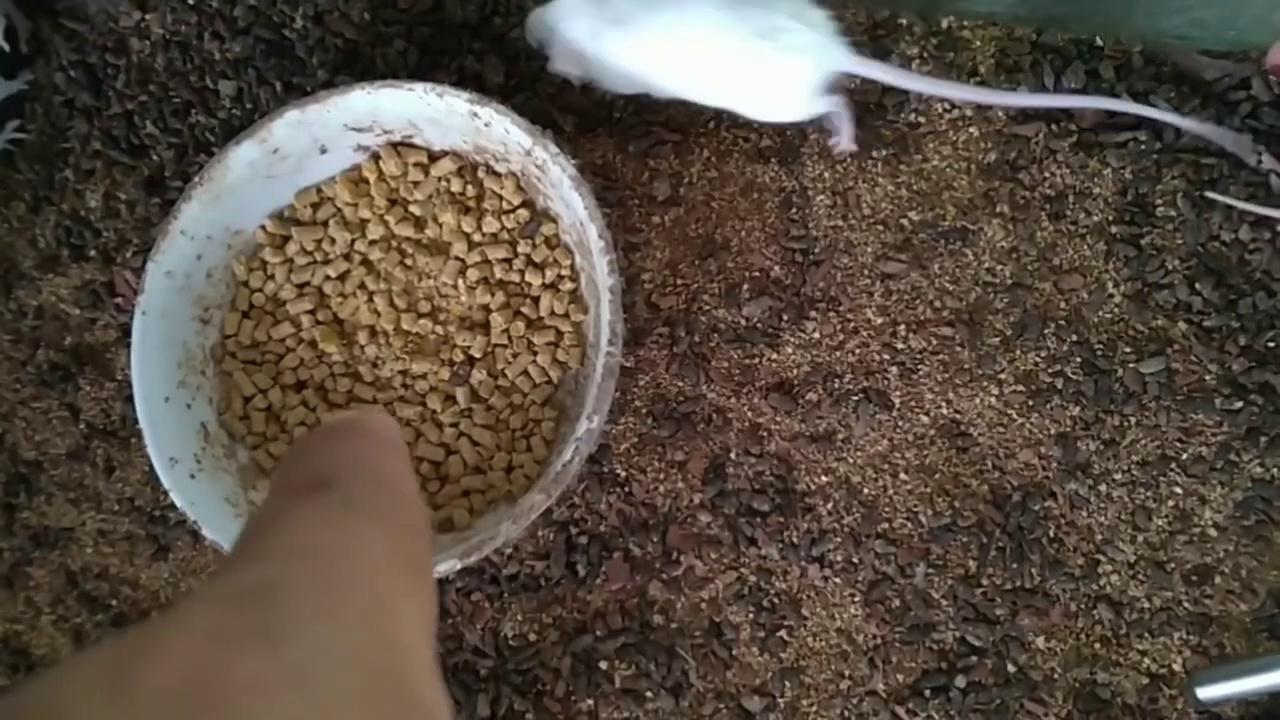rat: (525, 0, 1255, 149)
